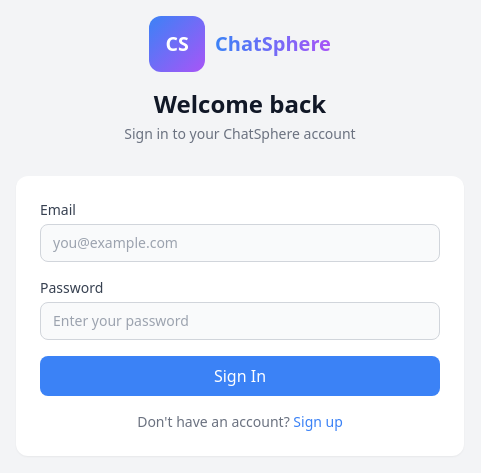
it: Login Page › should show loading state when submitting
The width and height of the screenshot is (481, 473).
Type "test@test.com" into the field with placeholder "you@example.com" at coordinates (240, 243), box x1=40 y1=224 x2=440 y2=262
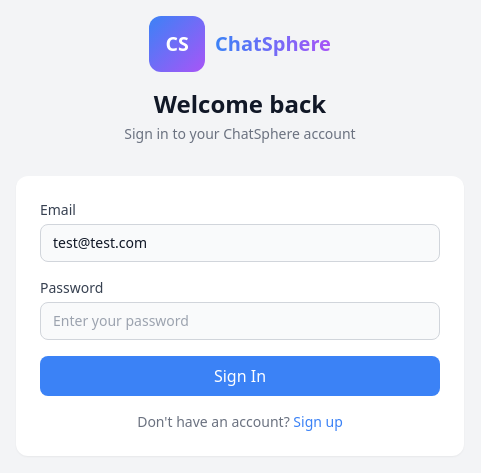
Type "password123" into the password field with placeholder "Enter your password" at coordinates (240, 321), box x1=40 y1=302 x2=440 y2=340
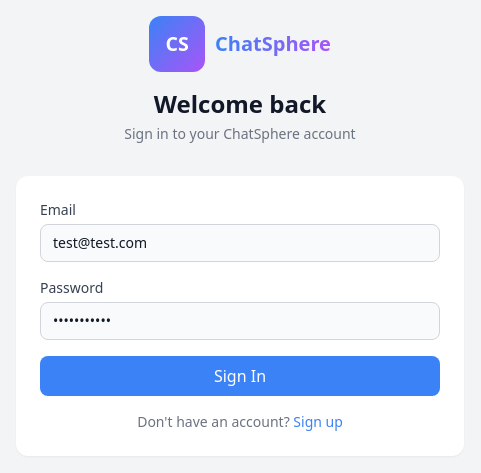
Click the button "Sign In" at coordinates (240, 376), box x1=40 y1=356 x2=440 y2=396
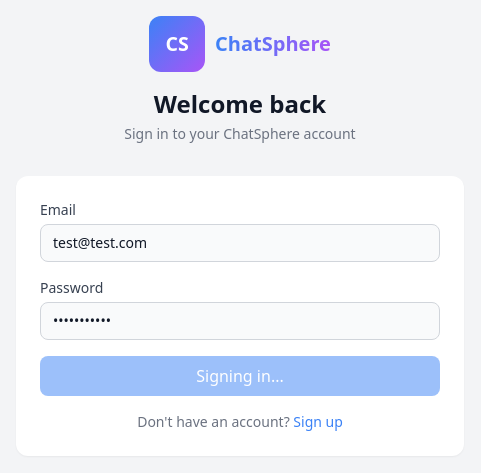
Result: the button "Signing in..." is shown at x1=40 y1=356 x2=440 y2=396
